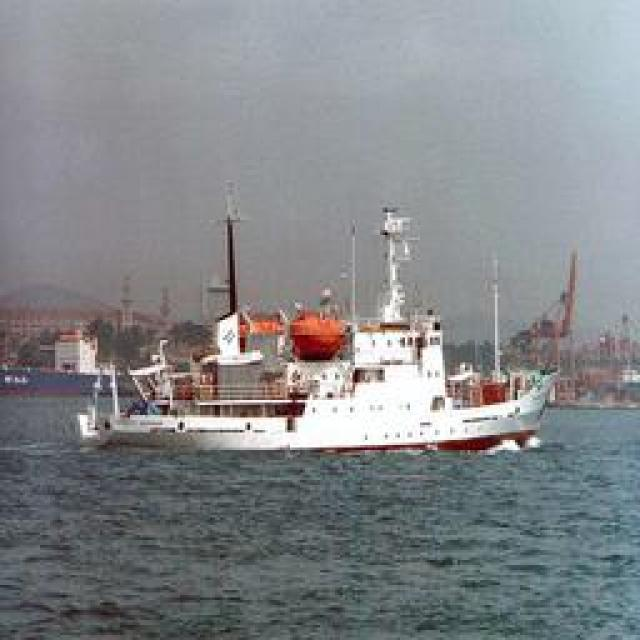CIV_Ship: (69, 208, 562, 464)
